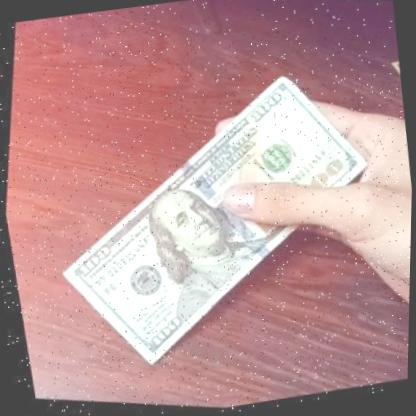one_hundred-front: (4, 20, 416, 416)
